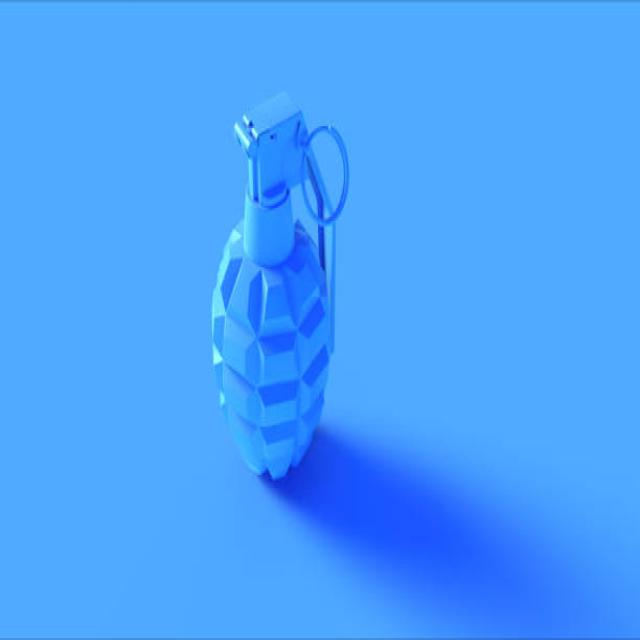grenade: (209, 86, 362, 493)
